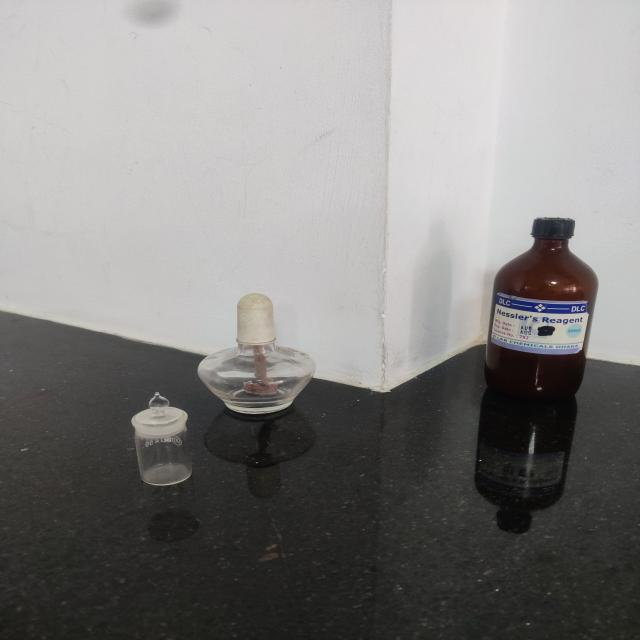Nessler_Reagent_Bottle: (444, 194, 630, 421)
Spirit_Lamp: (175, 274, 344, 431)
Weighing_Bottle: (111, 376, 205, 499)
